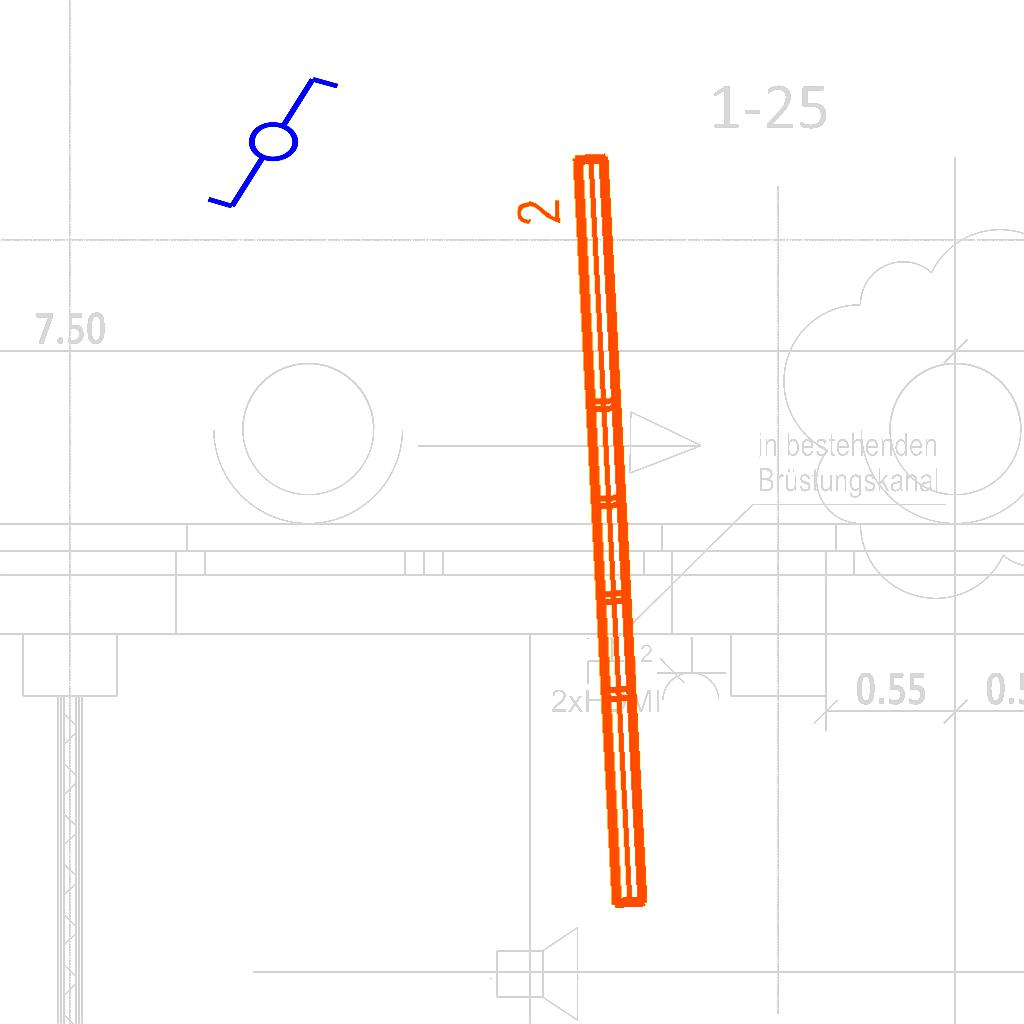Ambulanz_Pendelleuchte_LED: (508, 143, 662, 923)
Wechselschalter: (203, 72, 360, 216)
